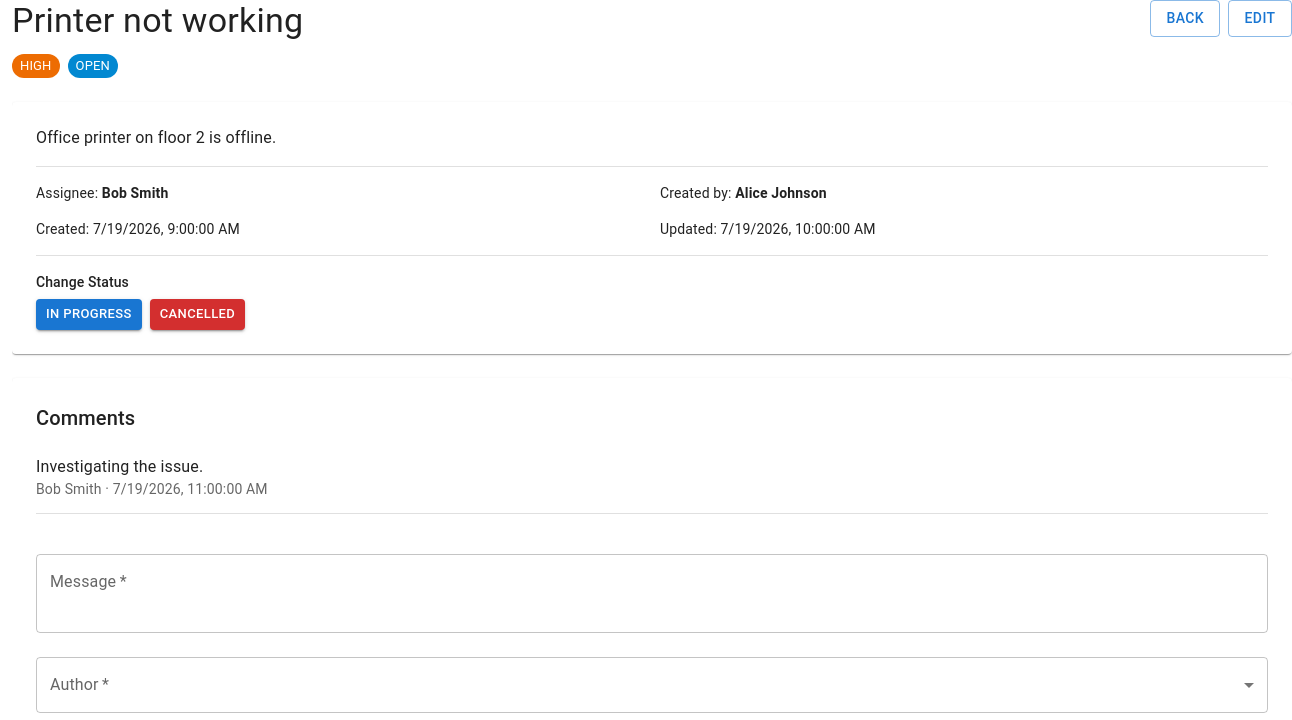
Test case: TicketDetailPage › submits a valid comment
Expected: the heading "Printer not working" is shown, [12,0,303,42]
Type "Please reboot the printer." into the text box labelled "Message *".
click(652, 593); type("Please reboot the printer.")  # box [50,570,1254,616]
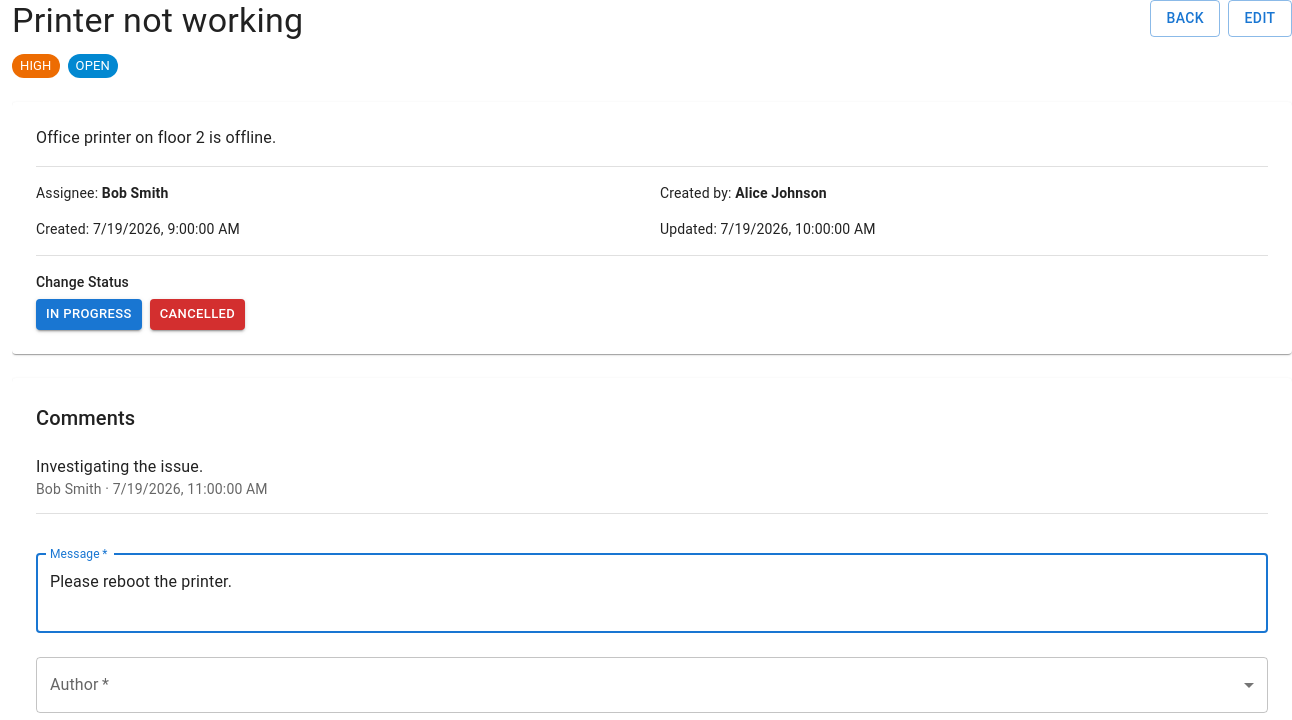
Click the dropdown named "author".
click(652, 684)  # box [36,656,1268,712]
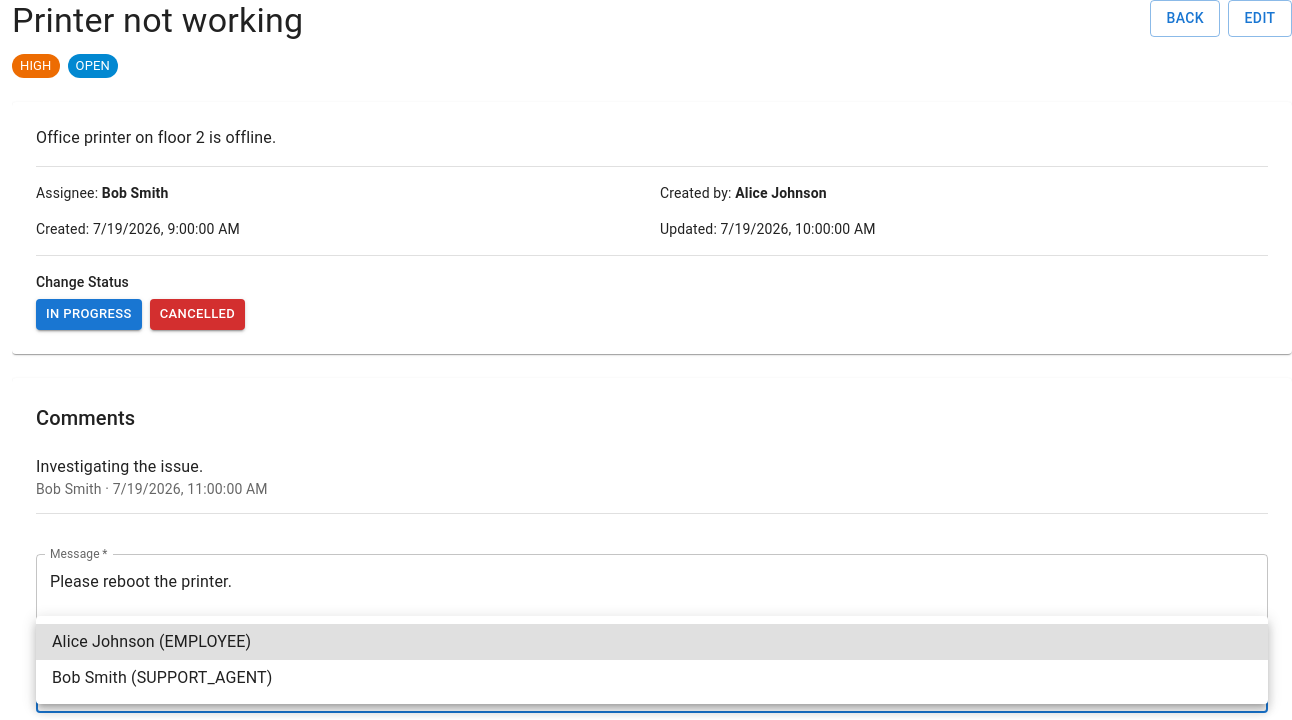
Click the option "Bob Smith (SUPPORT_AGENT)".
click(162, 678)  # box [52,668,272,687]
(page scrolled)
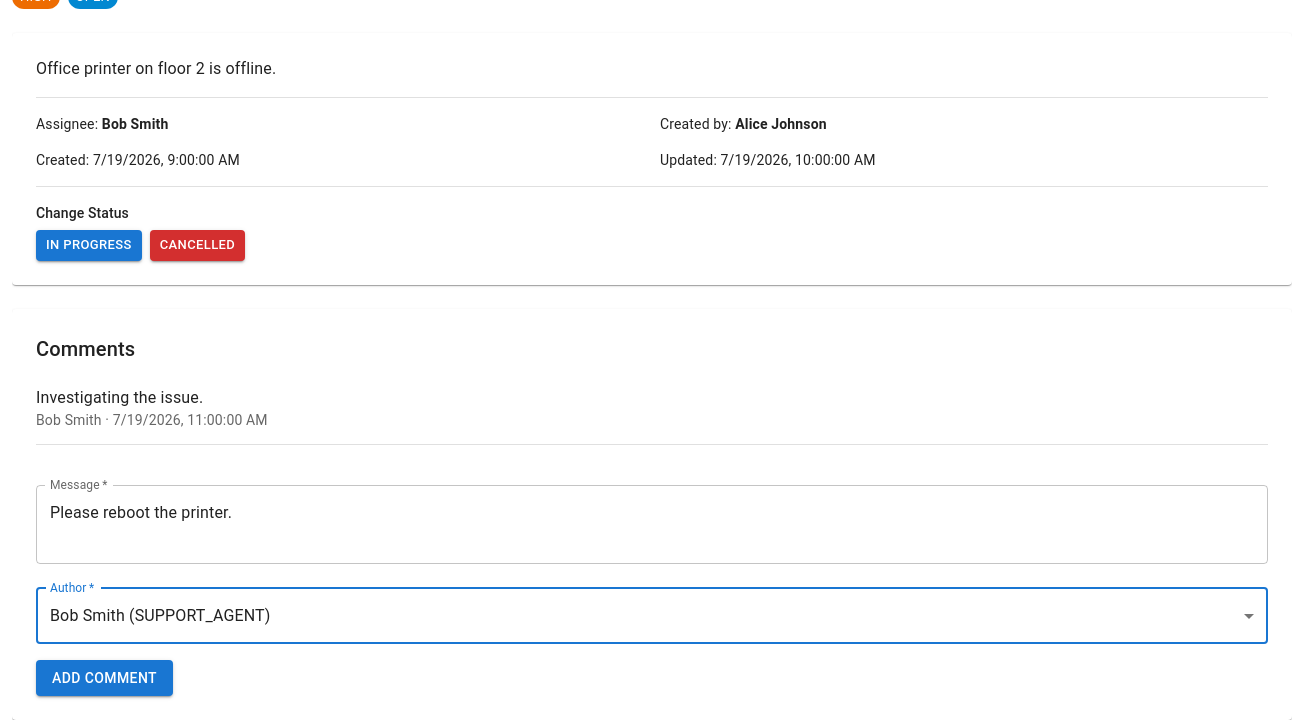
Click the button "Add Comment".
click(104, 678)  # box [36,660,173,696]
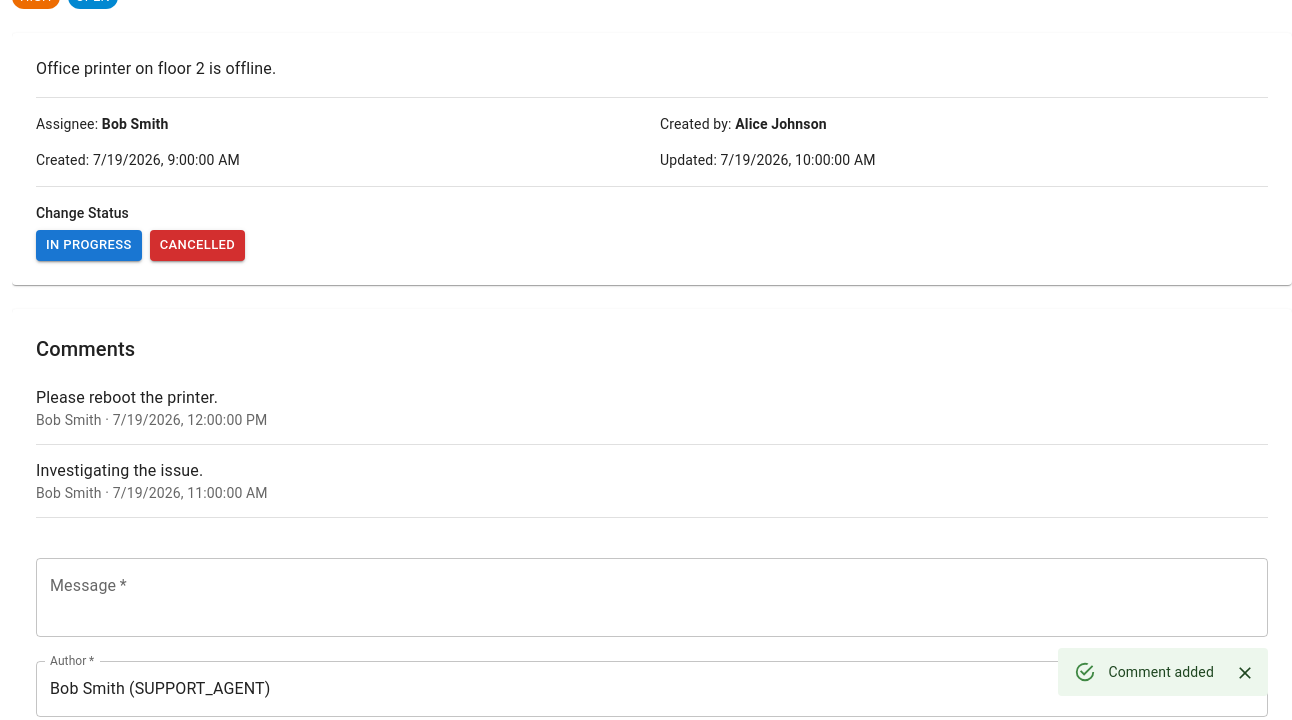
Expected: the text "Comment added" is shown, [1108,664,1214,680]
